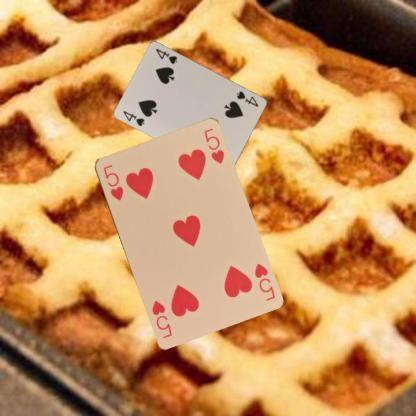4s: (235, 88, 260, 108), (121, 108, 146, 127)
5h: (252, 260, 276, 302), (100, 162, 125, 202)
